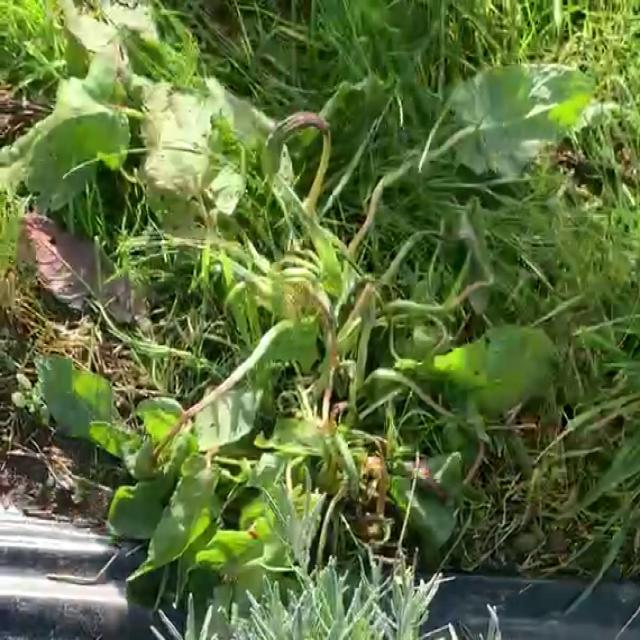organic waste: (18, 0, 623, 640)
